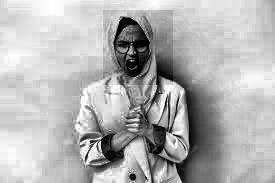angry: (104, 10, 174, 85)
